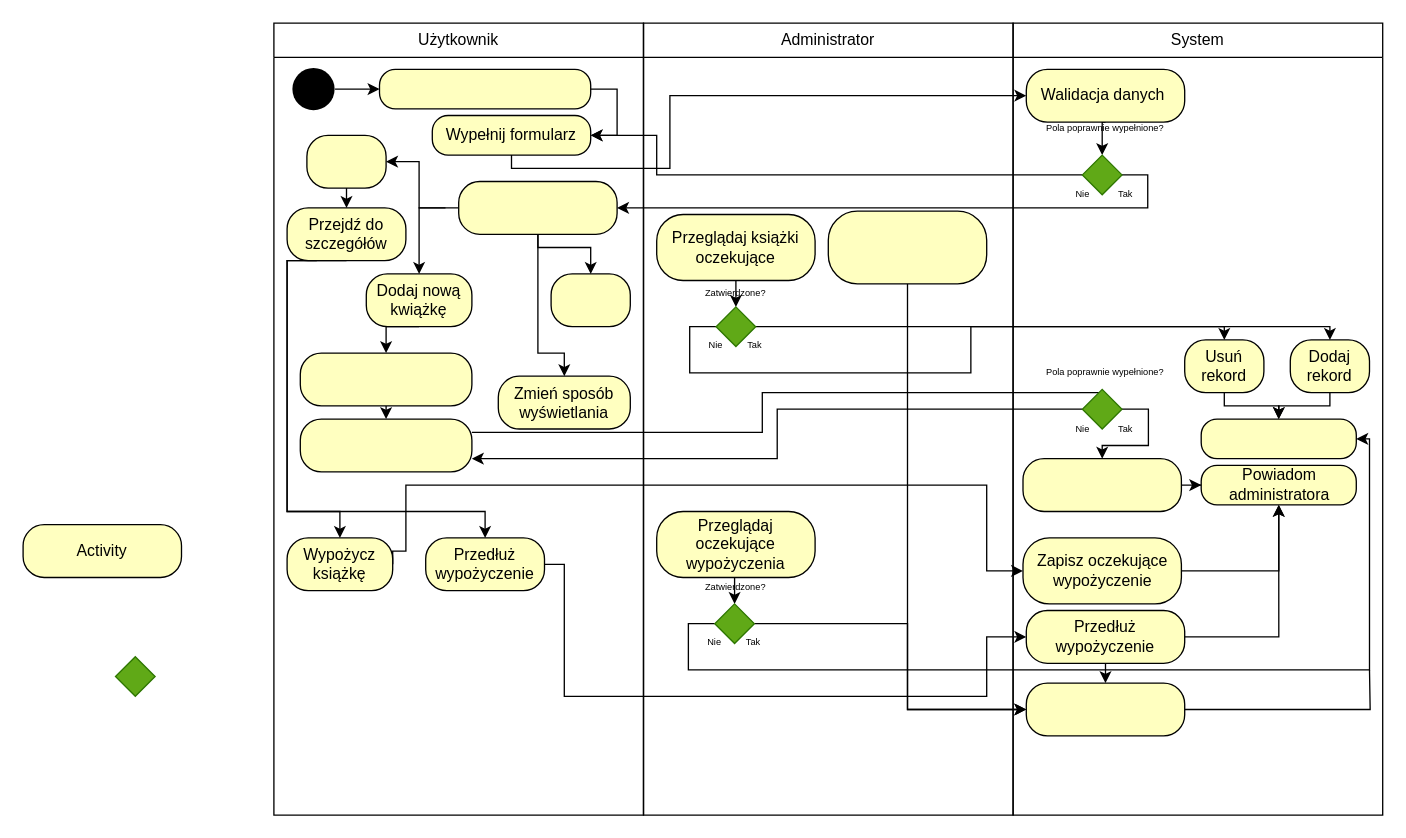
Image size: 1406x838. Some labels were removed from this diagram. Each missing label, with the centre of its shape:
"Filtruj" belongs at point (590, 300).
"Otwórz formularz dodawania książki" belongs at point (385, 379).
"Otwórz stronę logowania/rejestracji" belongs at point (484, 88).
"Pokaż listę książek" belongs at point (537, 207).
"Potwierdź zwrot książki" belongs at point (907, 247).
"Powiadom użytkownika" belongs at point (1278, 438).
"Wybierz ksiażkę" belongs at point (346, 161).
"Wypełnij wszystkie pola" belongs at point (385, 445).
"Zapisz rekord jako oczekujący" belongs at point (1101, 484).
"Zapisz stan wypożyczenia" belongs at point (1105, 709).
